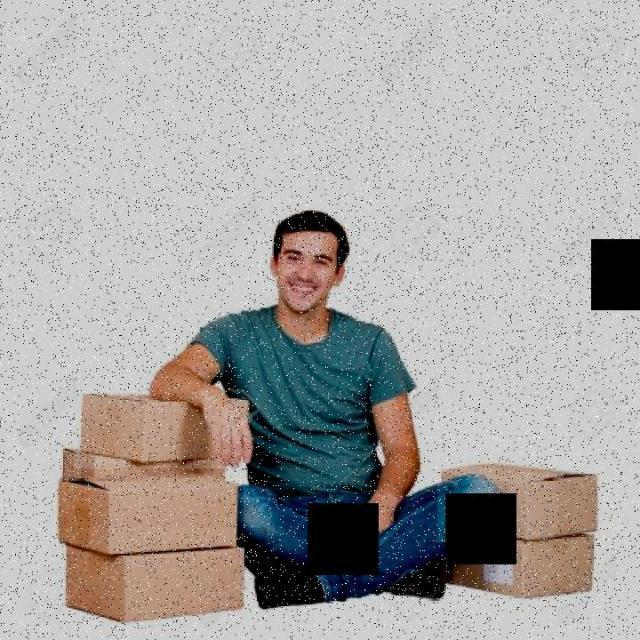box: (56, 528, 266, 626), (45, 446, 244, 548), (74, 379, 274, 468), (437, 450, 615, 542), (454, 528, 606, 604)
